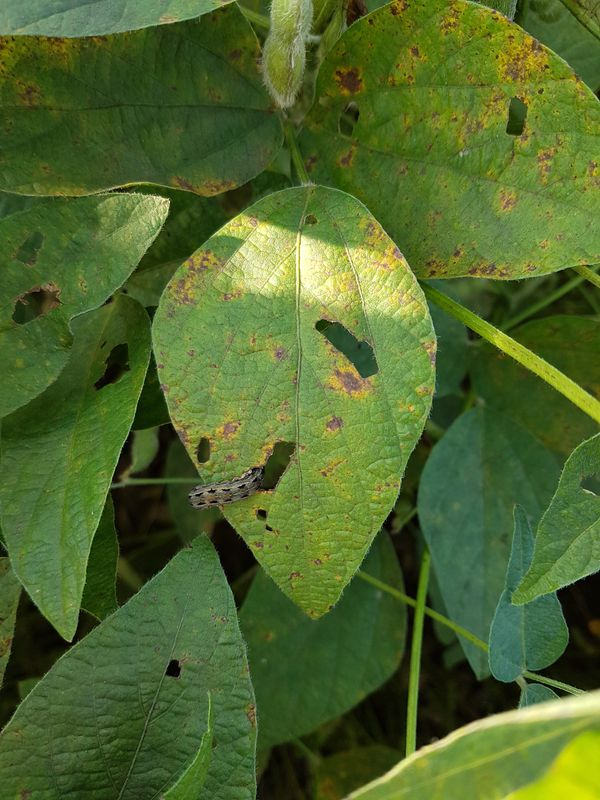Spodoptera_albula: (178, 453, 275, 525)
